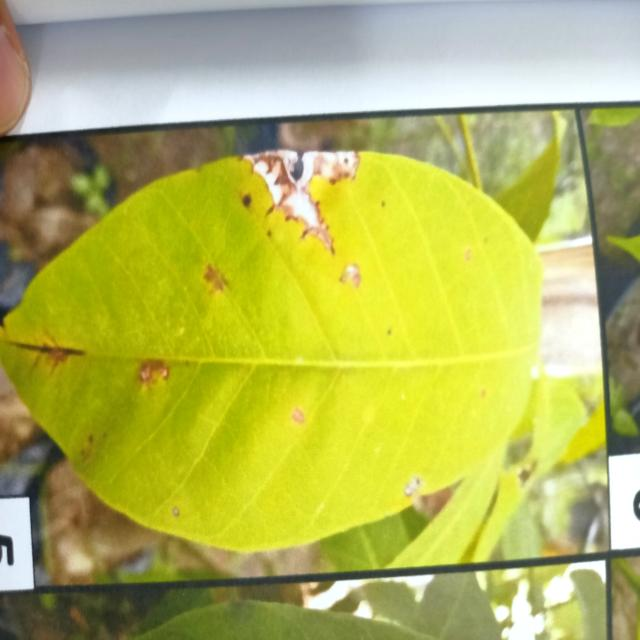Colletotrichum: (242, 194, 252, 208), (172, 505, 181, 517)
Corynespora: (7, 336, 88, 377)
Leaf-Blight: (243, 150, 360, 254)
